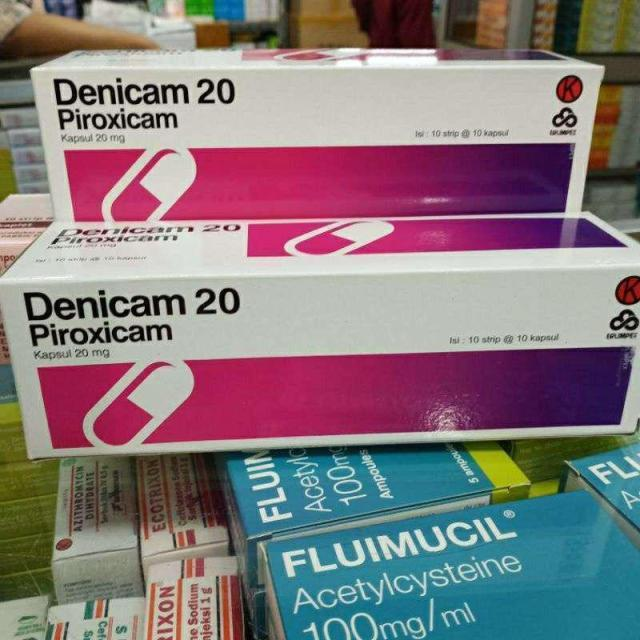drug-name: (54, 76, 240, 108)
